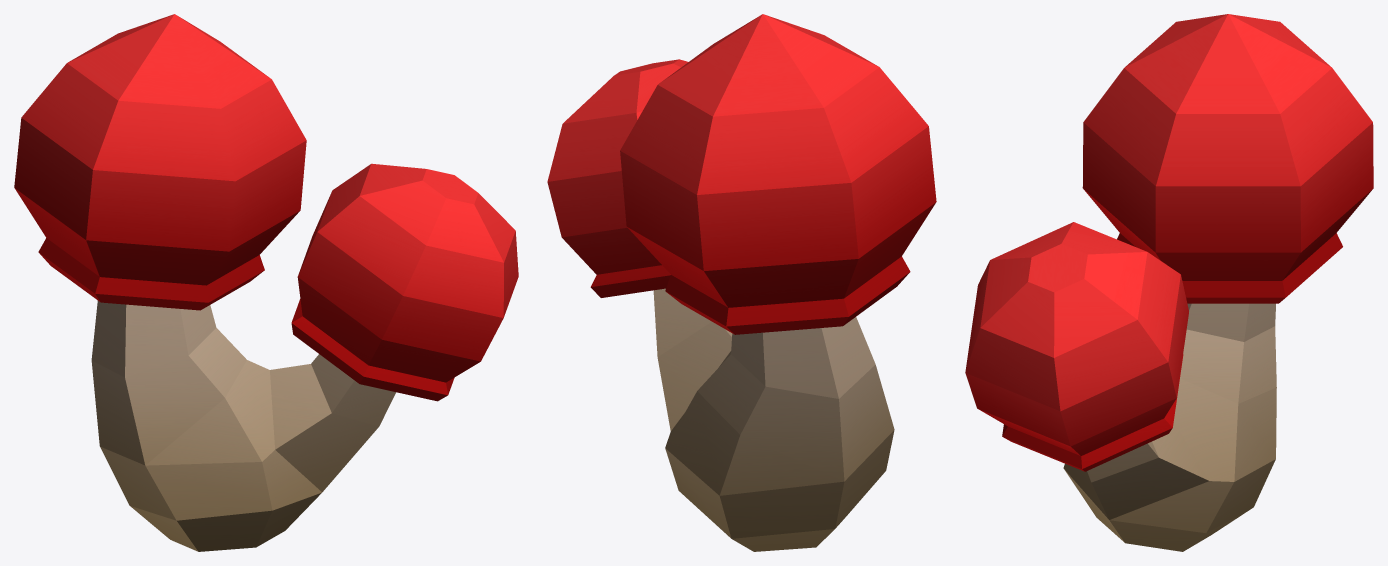
File: Mushroom_Red_03.fbx
3 renders of one model, left to right at view 1: azimuth 30°, elevation 25°; view 2: azimuth 150°, elevation 25°; view 3: azimuth 270°, elevation 25°, orthographic. The views are drawn at different scales.
Visible parts, largest first — view 1: Mushroom_Red_03; view 2: Mushroom_Red_03; view 3: Mushroom_Red_03.
Part boxes in pixels (x1,y1,x2,y2): Mushroom_Red_03: [14, 14, 518, 551]; Mushroom_Red_03: [547, 14, 936, 551]; Mushroom_Red_03: [965, 14, 1373, 551].
Size of the model in its own units: 33.95 by 42.65 by 30.77.
